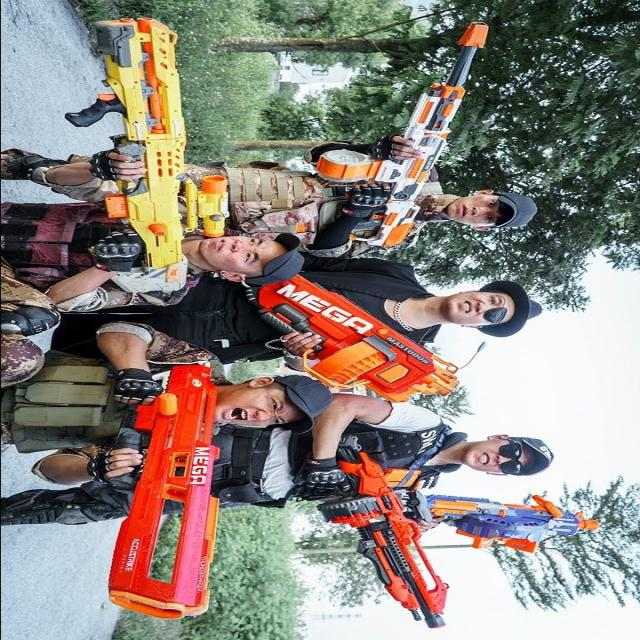Nerf gun: (59, 12, 233, 298), (318, 18, 502, 249), (96, 359, 229, 623), (250, 270, 463, 408), (310, 424, 452, 630), (407, 481, 603, 557)
